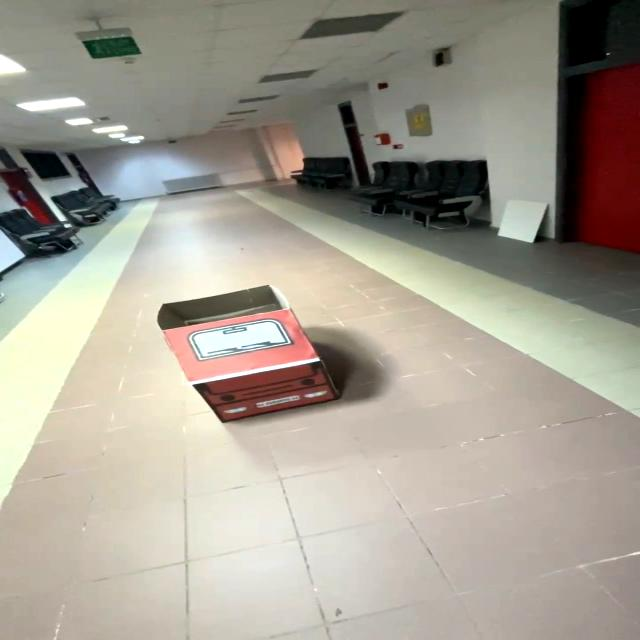red_car: (139, 279, 361, 435)
